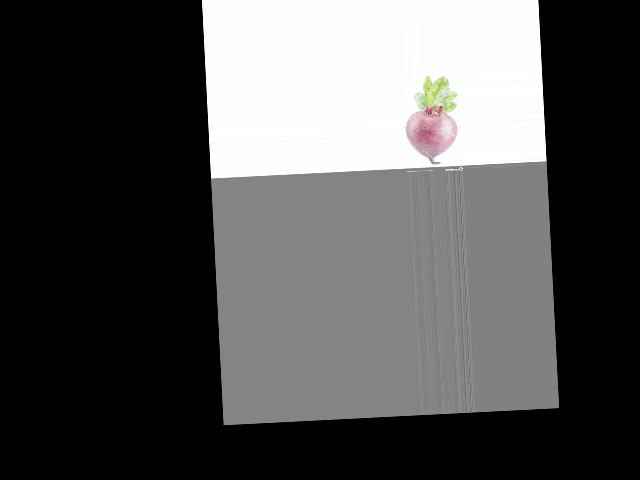beet: (402, 74, 460, 165)
